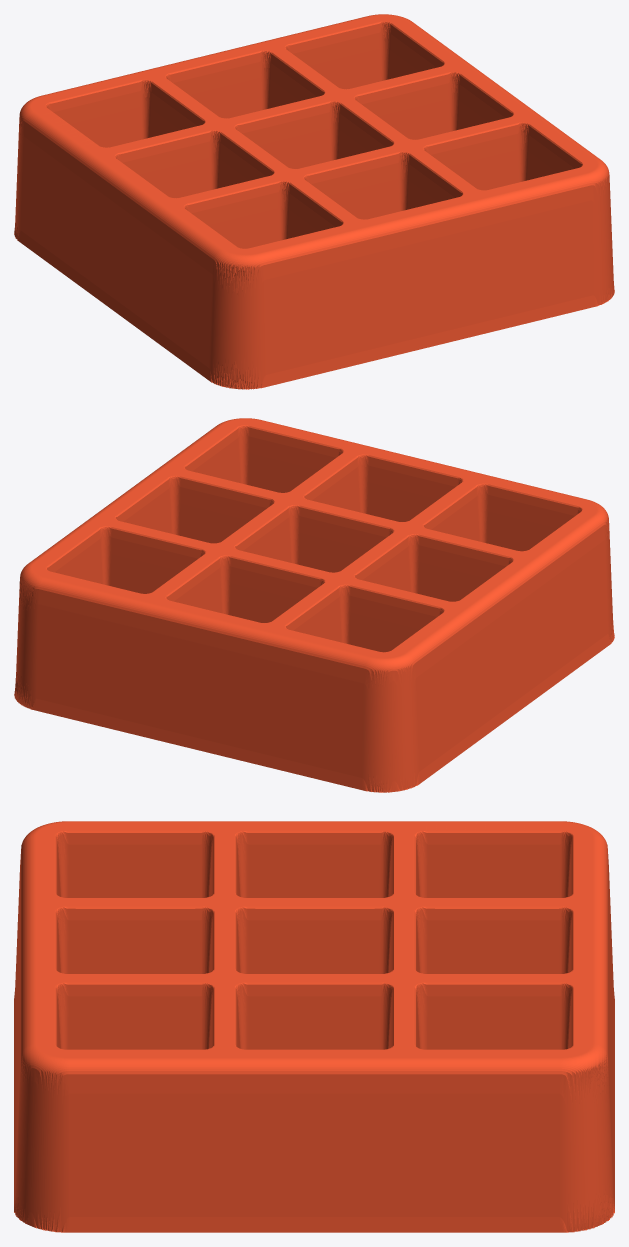
Rendered from mold.glb.
3 renders of one model, top to bottom at view 1: azimuth 30°, elevation 25°; view 2: azimuth 150°, elevation 25°; view 3: azimuth 270°, elevation 25°, orthographic. The views are drawn at different scales.
Visible parts, largest first — view 1: geometry_0; view 2: geometry_0; view 3: geometry_0.
Boxes of the visible parts, bbox=[...] form: geometry_0: bbox=[14, 14, 614, 389]; geometry_0: bbox=[14, 418, 614, 792]; geometry_0: bbox=[14, 821, 614, 1232].
Bounding box in the file's own units: 0.0984 × 0.0299 × 0.0984.
